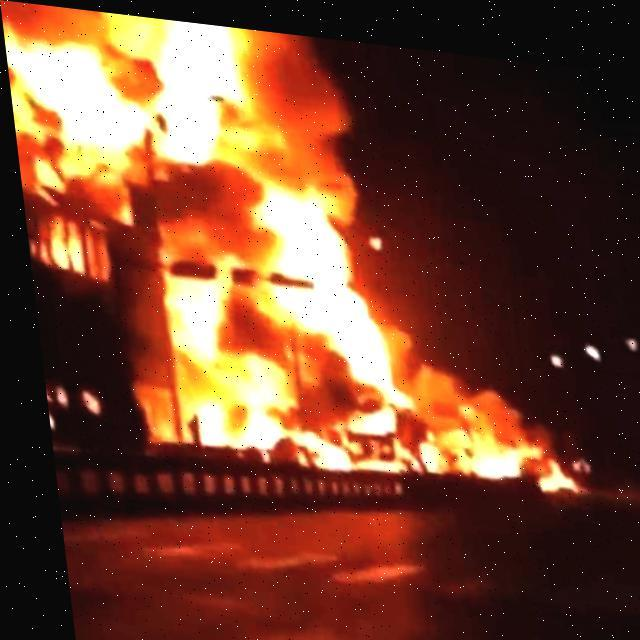Fire: (1, 4, 574, 486)
